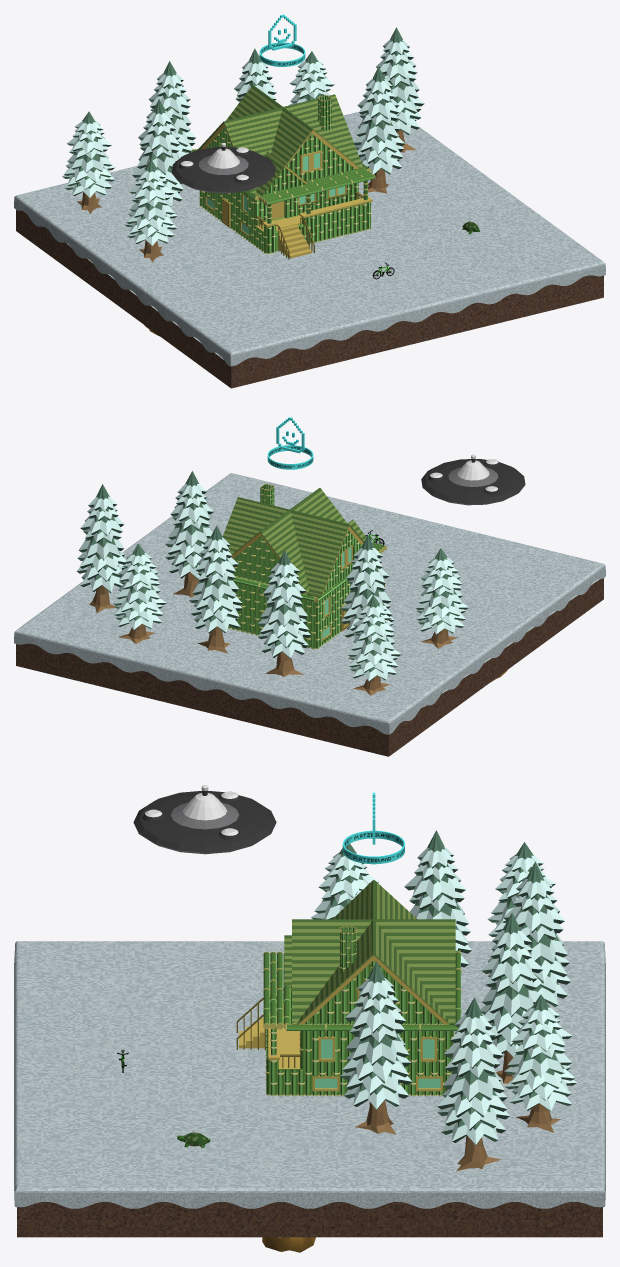
3 views of the same model, one above another, from view 1: azimuth 30°, elevation 25°; view 2: azimuth 150°, elevation 25°; view 3: azimuth 270°, elevation 25° (orthographic). The views are drawn at different scales.
Parts seen in each view (by area): view 1: Cube.003, Cube.1327, OBJRANDOM_UFO, TYPE_PREMIUM; view 2: Cube.003, Cube.1327, OBJRANDOM_UFO, TYPE_PREMIUM; view 3: Cube.003, Cube.1327, OBJRANDOM_UFO, TYPE_PREMIUM, UNDERGROUND_T_REX_BONES.
Part boxes in pixels (x1,y1,x2,y2): Cube.003: [14, 27, 605, 388]; Cube.1327: [191, 85, 375, 259]; OBJRANDOM_UFO: [171, 142, 275, 193]; TYPE_PREMIUM: [259, 14, 305, 66]; Cube.003: [14, 471, 605, 756]; Cube.1327: [222, 484, 386, 649]; OBJRANDOM_UFO: [421, 454, 525, 505]; TYPE_PREMIUM: [267, 417, 313, 469]; Cube.003: [14, 830, 605, 1237]; Cube.1327: [236, 880, 461, 1096]; OBJRANDOM_UFO: [133, 785, 276, 854]; TYPE_PREMIUM: [342, 792, 404, 864]; UNDERGROUND_T_REX_BONES: [262, 1237, 315, 1252].
Size of the model in its own units: 4040 by 2580 by 4040.
32 materials, 5 textured.
